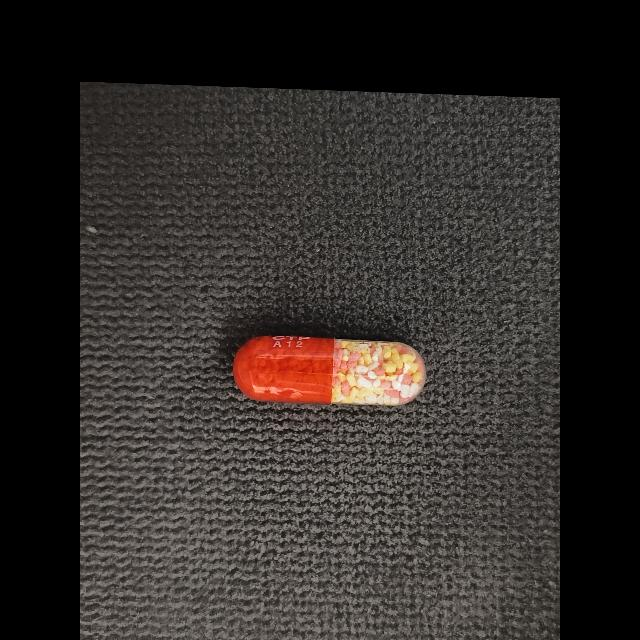Intact Capsule: (233, 336, 426, 406)
